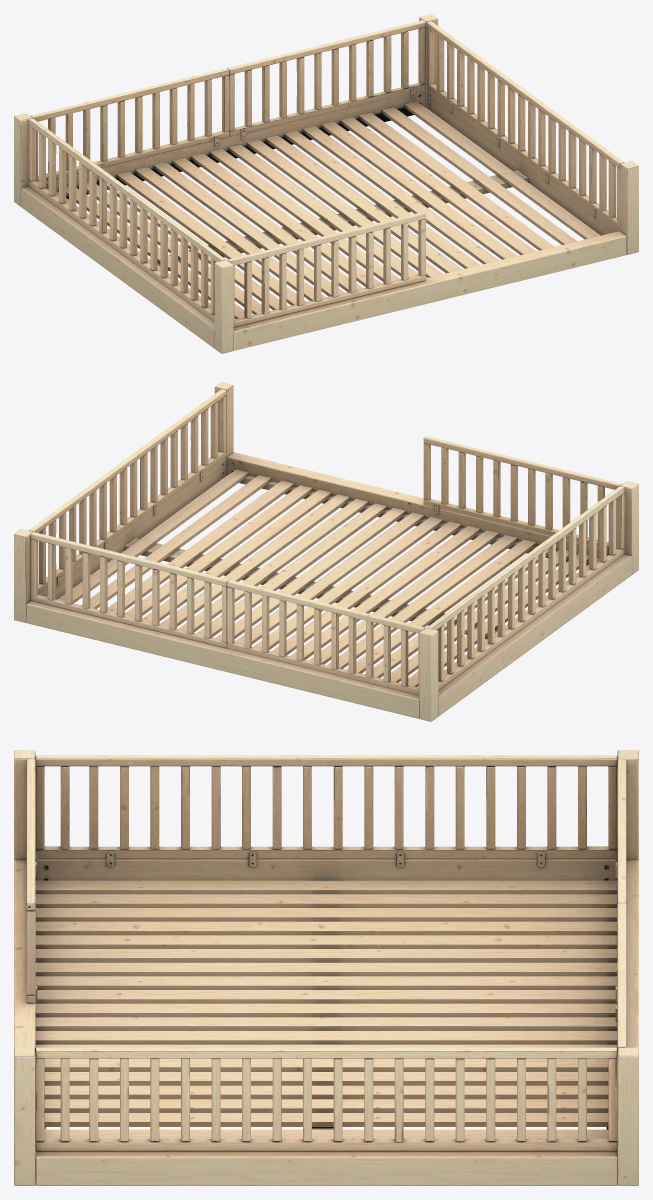
3 views of the same model, one above another, from view 1: azimuth 30°, elevation 25°; view 2: azimuth 150°, elevation 25°; view 3: azimuth 270°, elevation 25° (orthographic). The views are drawn at different scales.
Parts seen in each view (by area): view 1: 190x160; view 2: 190x160; view 3: 190x160.
Part boxes in pixels (left/top/right/bottom): 190x160: left=14, top=14, right=638, bottom=353; 190x160: left=14, top=382, right=638, bottom=721; 190x160: left=14, top=750, right=638, bottom=1185.
Bounding box in the file's own units: 2.02 × 0.4 × 1.74.
Materials: 1 (1 with a texture image).
